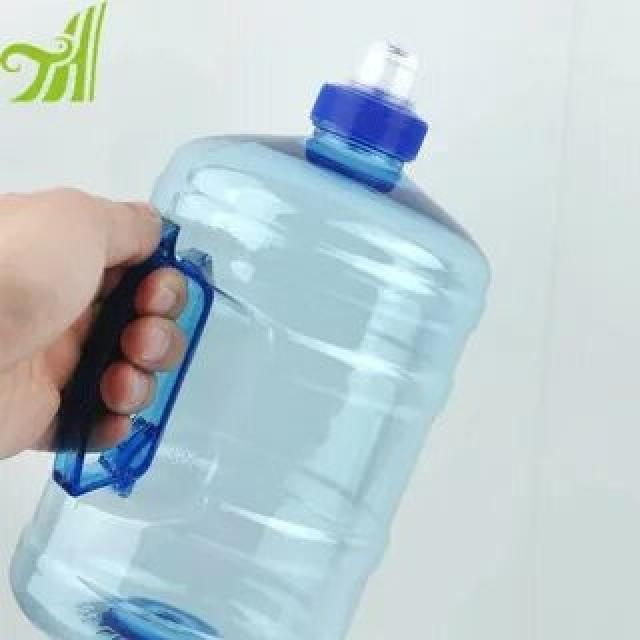blue: (6, 133, 492, 640)
